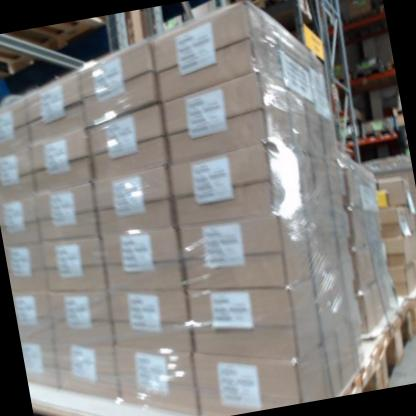pallet: (30, 325, 385, 416), (346, 291, 416, 390), (400, 269, 416, 336), (350, 63, 388, 82), (362, 124, 396, 140), (390, 61, 395, 76)
stillage: (367, 156, 416, 263)
